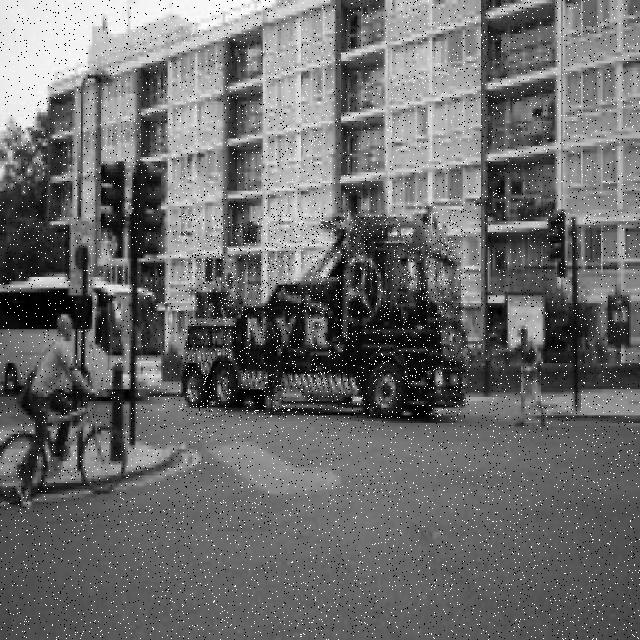Tow Truck: (181, 214, 467, 418)
